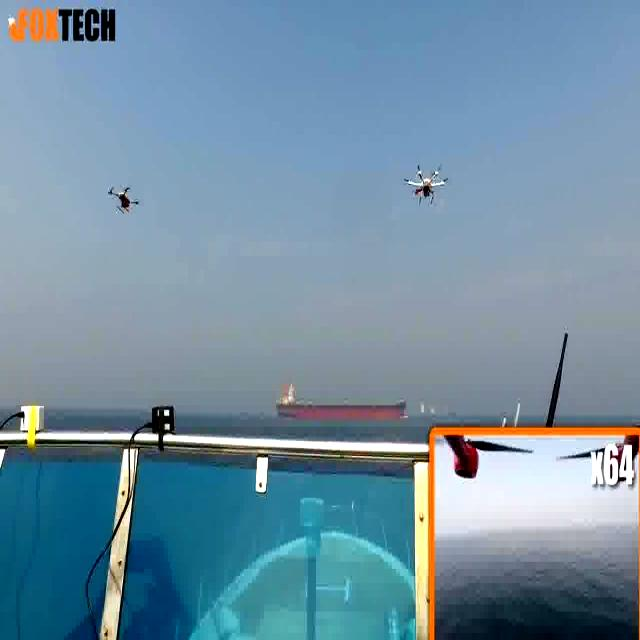drone: (403, 162, 445, 207), (102, 182, 144, 220)
